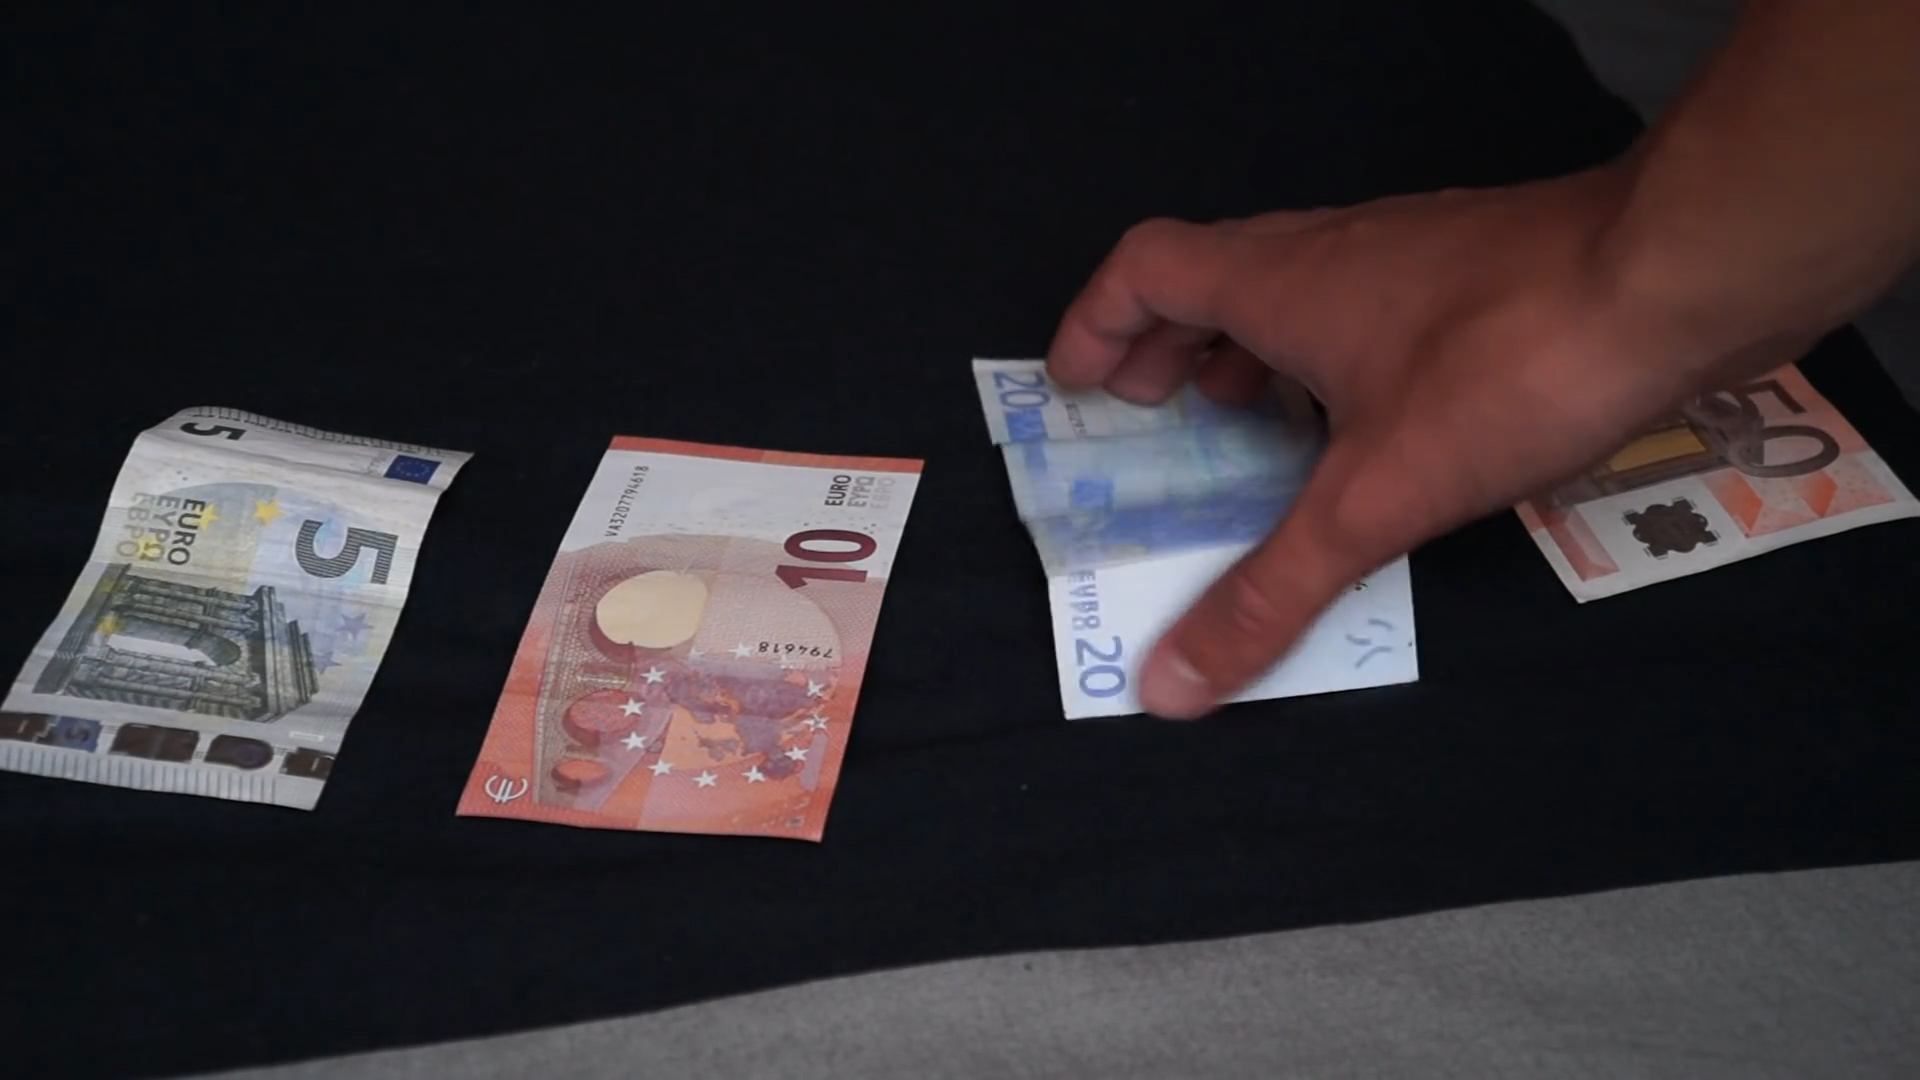billete: (452, 433, 927, 847), (1, 404, 479, 814), (971, 351, 1424, 727), (1509, 352, 1920, 609)
